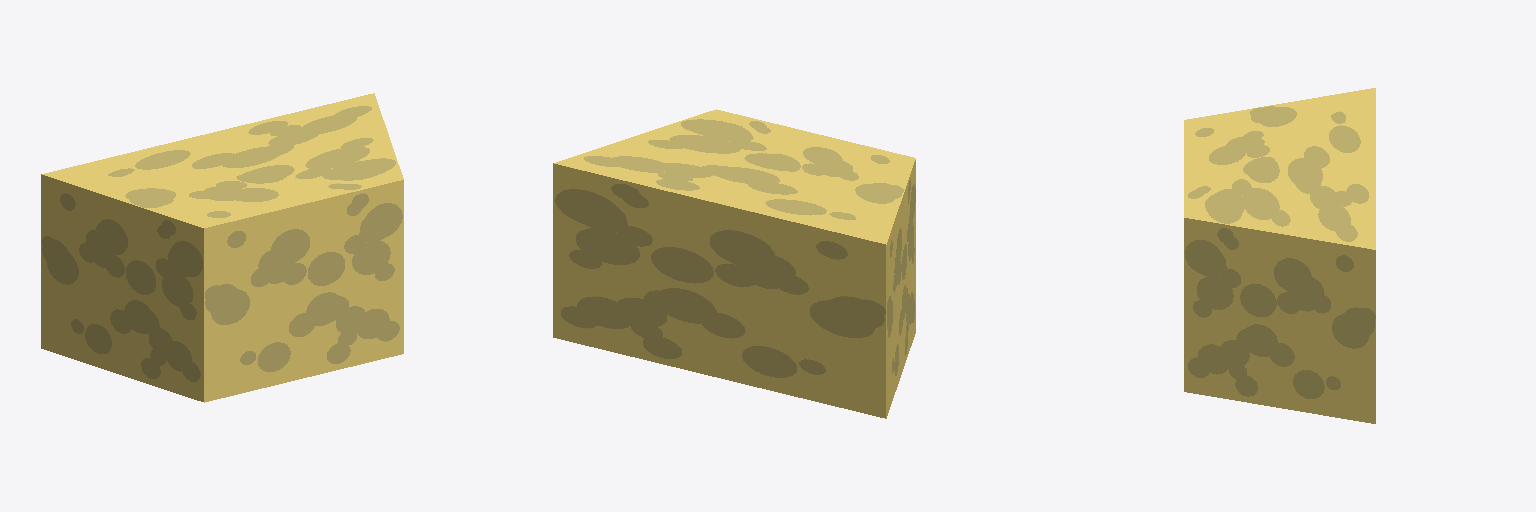
3 views of the same model, side by side, from view 1: azimuth 30°, elevation 25°; view 2: azimuth 150°, elevation 25°; view 3: azimuth 270°, elevation 25° (orthographic).
Size of the model in its own units: 1 by 0.5 by 0.5.
Materials: 1 (1 with a texture image).